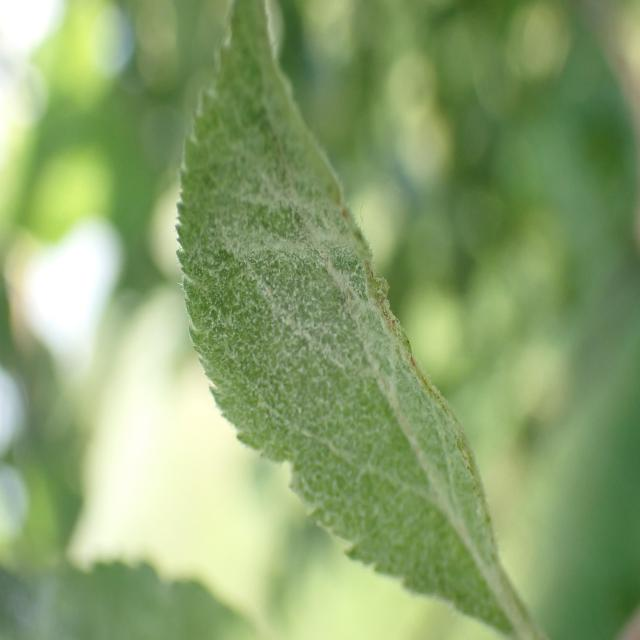Powdery_mildew: (172, 0, 528, 638)
